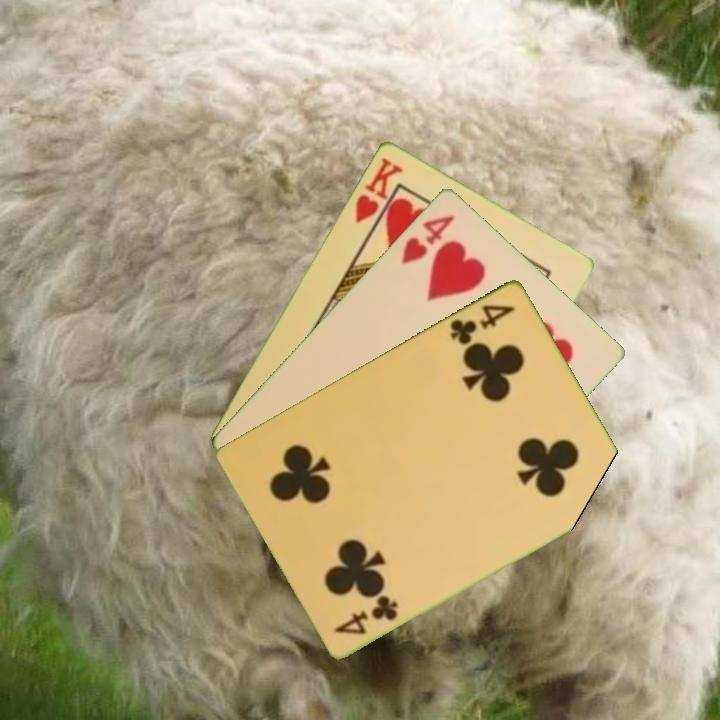4c: (446, 300, 518, 348), (331, 592, 401, 637)
4h: (397, 210, 458, 266)
Kh: (351, 153, 406, 236)
